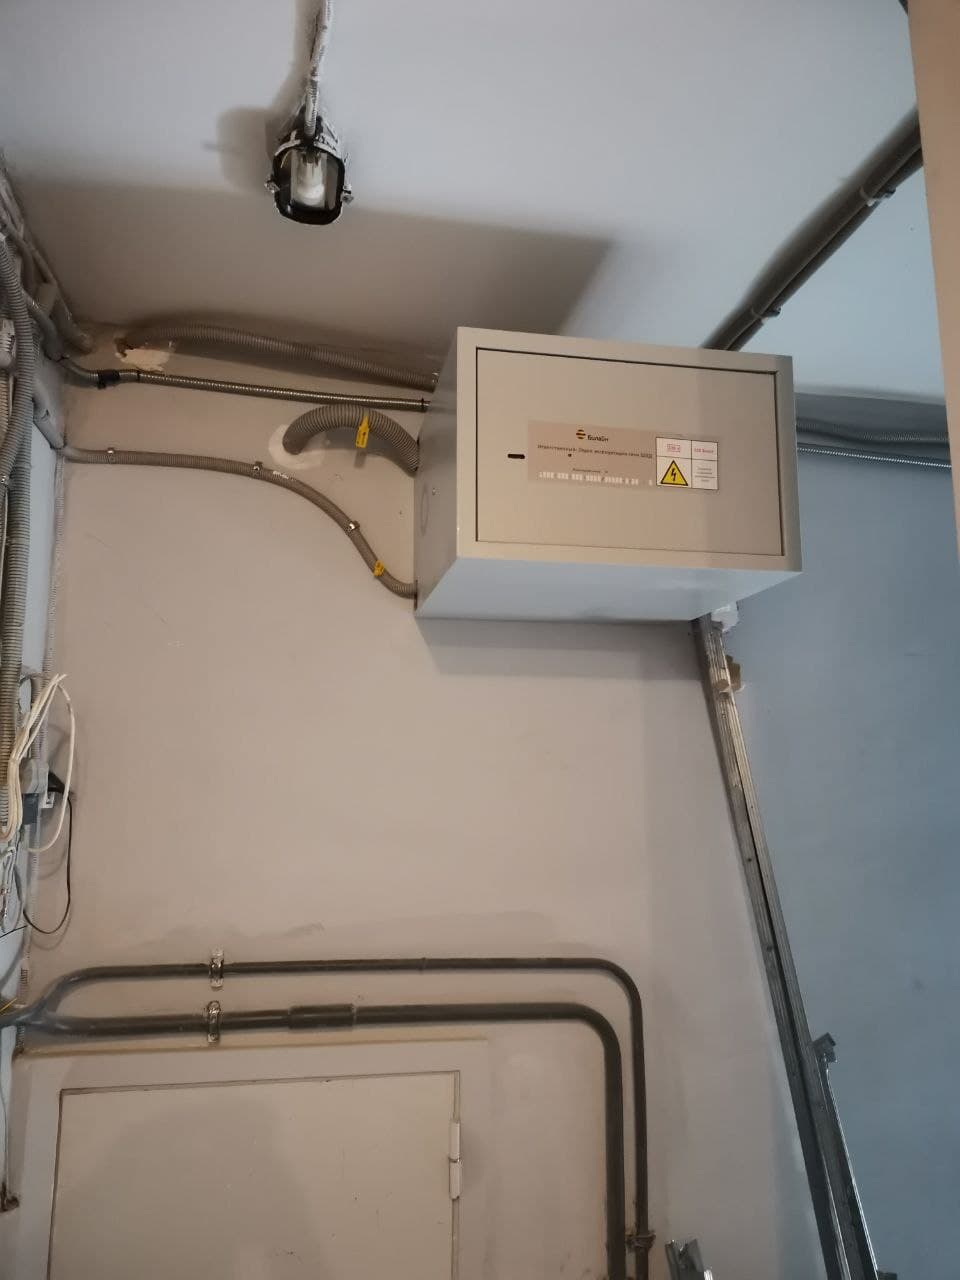shta-7m: (389, 304, 816, 637)
